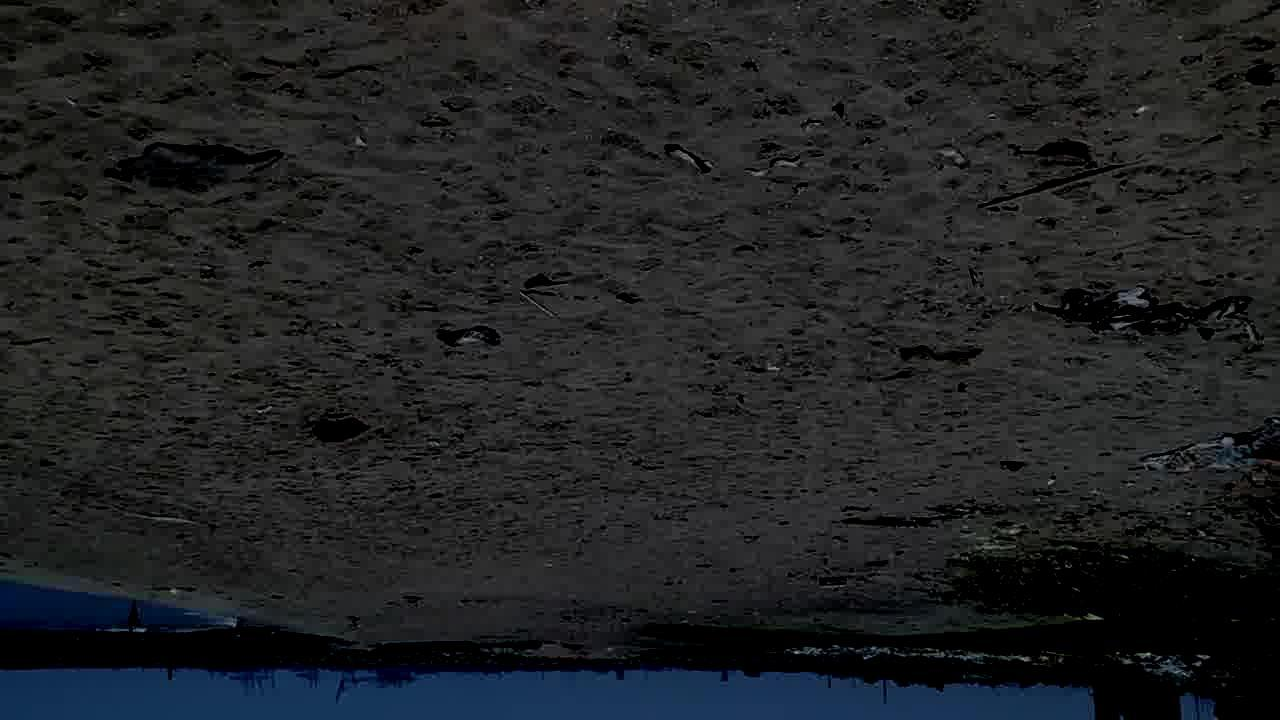obj: (669, 511, 1279, 656), (976, 132, 1227, 212), (1039, 280, 1234, 341), (840, 511, 956, 532)
sand/background: (0, 483, 1280, 719)
